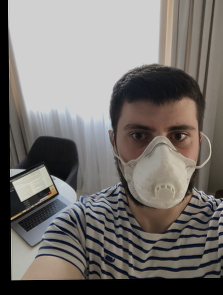with_mask: (118, 114, 198, 208)
